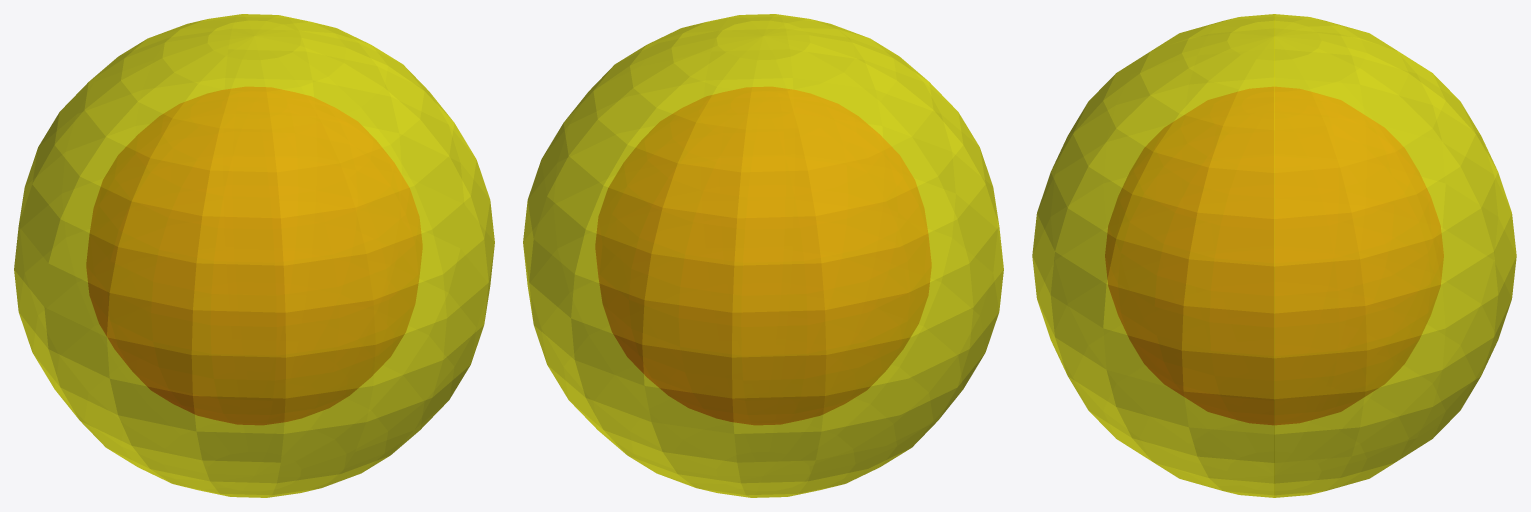
Rendered from explosion.dae.
3 renders of one model, left to right at view 1: azimuth 30°, elevation 25°; view 2: azimuth 150°, elevation 25°; view 3: azimuth 270°, elevation 25°, orthographic.
Visible parts, largest first — view 1: Shape_Sphere, Shape_Sphere_001; view 2: Shape_Sphere, Shape_Sphere_001; view 3: Shape_Sphere, Shape_Sphere_001.
Boxes of the visible parts, bbox=[...] form: Shape_Sphere: bbox=[14, 14, 494, 497]; Shape_Sphere_001: bbox=[86, 87, 422, 424]; Shape_Sphere: bbox=[523, 14, 1003, 497]; Shape_Sphere_001: bbox=[595, 87, 931, 424]; Shape_Sphere: bbox=[1032, 14, 1516, 497]; Shape_Sphere_001: bbox=[1105, 87, 1443, 424].
Bounding box in the file's own units: 2 × 2 × 2.
